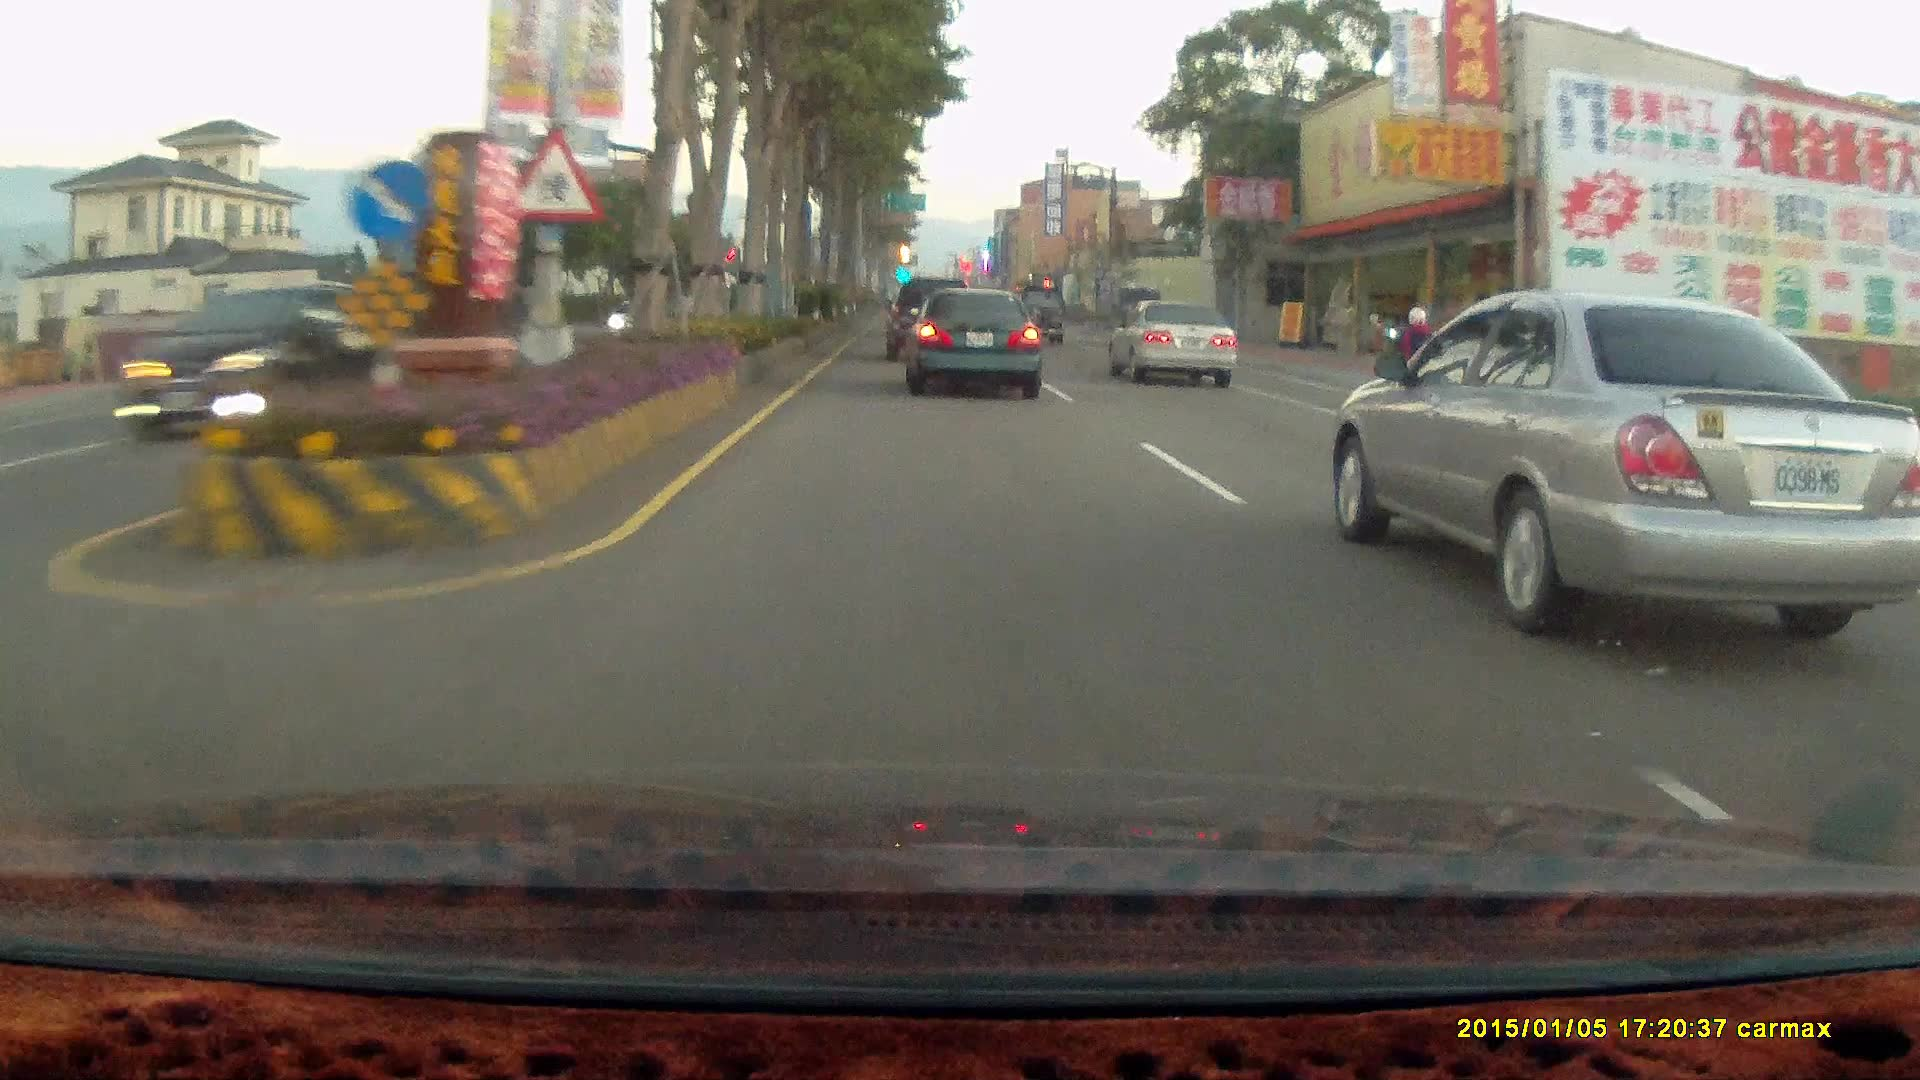rider: (1384, 301, 1449, 413), (1387, 322, 1442, 430)
vehicle: (1343, 289, 1920, 636), (110, 289, 372, 444), (156, 290, 366, 431), (901, 287, 1048, 404), (900, 288, 1043, 400), (1105, 299, 1239, 387), (157, 316, 317, 389), (1121, 303, 1250, 391), (883, 278, 976, 368), (885, 276, 970, 361), (1009, 288, 1066, 349)
